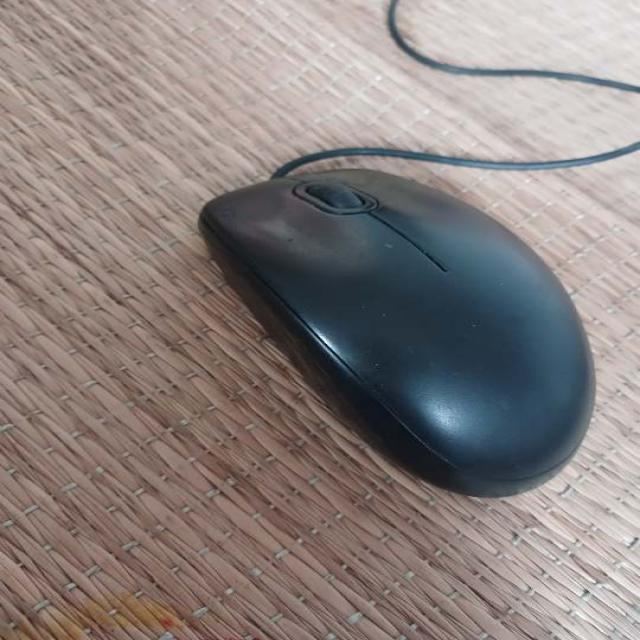mouse: (198, 162, 592, 499)
